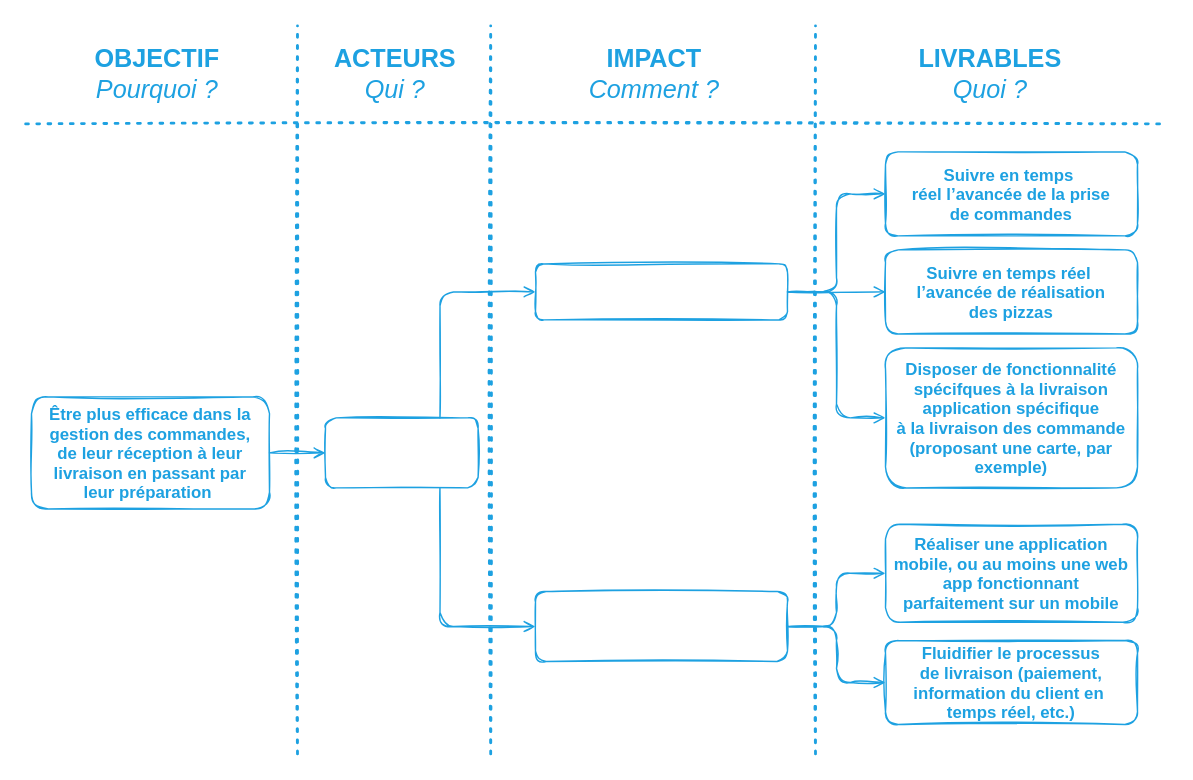
This 1193x780 diagram has some shape labels left out. The shapes that lost their labels are listed below. From the top down, each one's box as (x1, y1, x2, y2) in pixels, then its label:
(534, 262, 788, 320): Planifier les livraisons au mieux
(324, 416, 478, 488): Thomas le livreur
(534, 590, 788, 662): Informer au mieux le point de vente de l’avancée des livraisons
